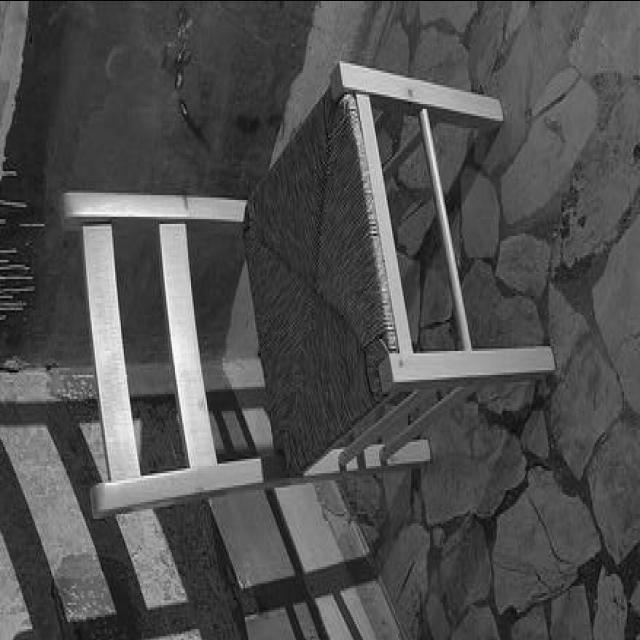chair: (60, 59, 552, 524)
